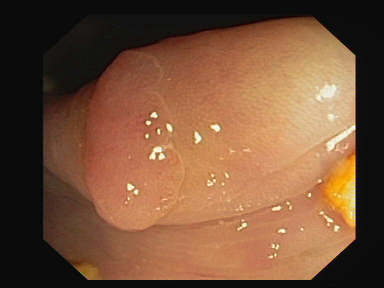polyp: (68, 51, 200, 236), (315, 140, 363, 234)
